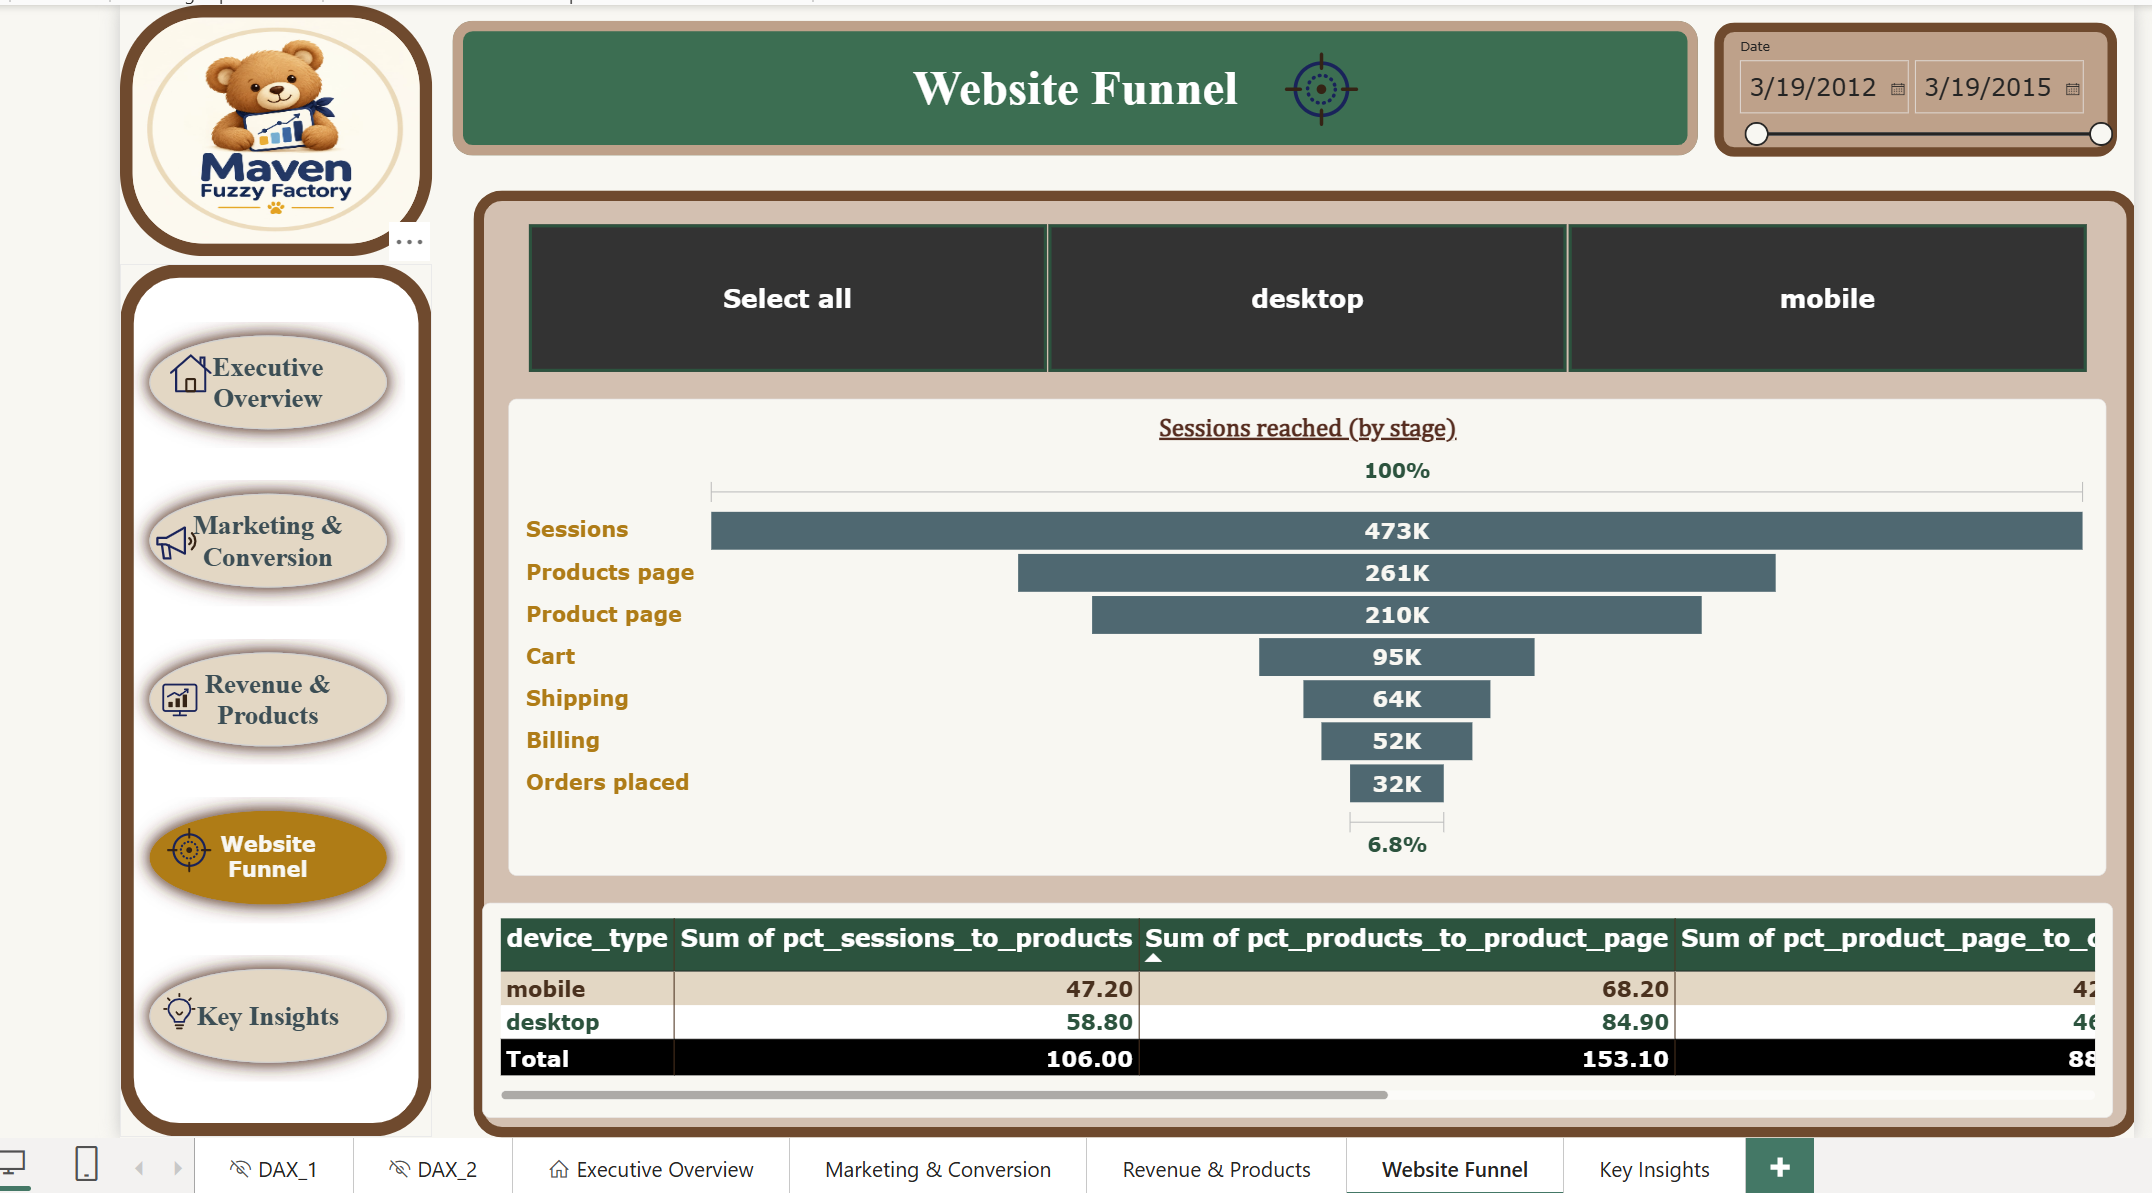

The dashboard page shown, as its layout file describes it:
{"tool":"powerbi","page":{"name":"Website Funnel","canvas":[1920,1080],"ordinal":5},"visuals":[{"type":"shape","box":[337.6,176.7,1586.1,902.8],"z":0,"group":"g2"},{"type":"shape","box":[0,247.1,297.5,832],"z":0,"group":"g3"},{"type":"image","box":[975.3,275,76.2,67.7],"z":0},{"type":"shape","box":[317.7,15.1,1187.5,128.6],"z":1000,"group":"g1"},{"type":"image","box":[1497.8,275,76.2,67.7],"z":1000},{"type":"pageNavigator","box":[0,284.9,282.4,753.8],"z":1000,"group":"g3"},{"type":"group","id":"g1","title":"Group 1","box":[0,0,1904,239.5],"z":2000},{"type":"shape","box":[1520,16,384,128],"z":2000,"group":"g1"},{"type":"image","box":[42.9,327.8,48,48],"z":2000,"group":"g3"},{"type":"group","id":"g2","title":"Group 2","box":[337.6,176.7,1583.8,902.3],"z":3000},{"type":"image","box":[42.3,778.6,48.7,52.9],"z":3000,"group":"g3"},{"type":"image","box":[0,0,297.5,239.5],"z":4000,"group":"g1"},{"type":"group","id":"g3","title":"Group 3","box":[0,247.1,297.5,832],"z":4000},{"type":"image","box":[32.8,642.9,47.5,40.7],"z":4000,"group":"g3"},{"type":"slicer","fields":{"Values":["Dates.Date"]},"box":[1536,32,368,112],"z":5000,"group":"g1"},{"type":"image","box":[22.7,489.1,56.6,49.8],"z":5000,"group":"g3"},{"type":"image","box":[29.6,941.5,52.9,40.3],"z":6000,"group":"g3"},{"type":"funnel","title":"Sessions reached (by stage)","fields":{"Category":["funnel_long.stage"],"Y":["Sum(funnel_long.sessions_reached)"]},"box":[371.3,375.8,1523.2,454.8],"z":8000,"group":"g2"},{"type":"slicer","fields":{"Values":["funnel_long.device_type"]},"box":[369.3,206.1,1525,144.8],"z":9000,"group":"g2"},{"type":"tableEx","fields":{"Values":["maven_fuzzy_factory vw_funnel.device_type","Sum(maven_fuzzy_factory vw_funnel.pct_sessions_to_products)","Sum(maven_fuzzy_factory vw_funnel.pct_products_to_product_page)","Sum(maven_fuzzy_factory vw_funnel.pct_product_page_to_cart)","Sum(maven_fuzzy_factory vw_funnel.pct_cart_to_shipping)","Sum(maven_fuzzy_factory vw_funnel.pct_shipping_to_billing)","Sum(maven_fuzzy_factory vw_funnel.pct_billing_to_order)"]},"box":[345.9,856,1554.9,205.2],"z":10000,"group":"g2"},{"type":"image","box":[1101.7,40.3,88.2,80.7],"z":12000,"group":"g1"}]}

Visuals, with their boxes in screenshot pixels (x1, y1, x2, y2):
shape: x1=467 y1=186 x2=2135 y2=1135
shape: x1=112 y1=260 x2=425 y2=1135
image: x1=1137 y1=289 x2=1218 y2=360
shape: x1=446 y1=16 x2=1695 y2=151
image: x1=1687 y1=289 x2=1767 y2=360
pageNavigator: x1=112 y1=300 x2=409 y2=1092
"Group 1" group: x1=112 y1=0 x2=2114 y2=252
shape: x1=1710 y1=17 x2=2114 y2=151
image: x1=157 y1=345 x2=208 y2=395
"Group 2" group: x1=467 y1=186 x2=2132 y2=1134
image: x1=157 y1=819 x2=208 y2=874
image: x1=112 y1=0 x2=425 y2=252
"Group 3" group: x1=112 y1=260 x2=425 y2=1135
image: x1=147 y1=676 x2=197 y2=719
slicer - Dates.Date: x1=1727 y1=34 x2=2114 y2=151
image: x1=136 y1=514 x2=195 y2=567
image: x1=143 y1=990 x2=199 y2=1032
"Sessions reached (by stage)" funnel: x1=502 y1=395 x2=2104 y2=873
slicer - funnel_long.device_type: x1=500 y1=217 x2=2104 y2=369
tableEx - maven_fuzzy_factory vw_funnel.device_type x Sum(maven_fuzzy_factory vw_funnel.pct_sessions_to_products): x1=476 y1=900 x2=2110 y2=1116
image: x1=1270 y1=42 x2=1363 y2=127
